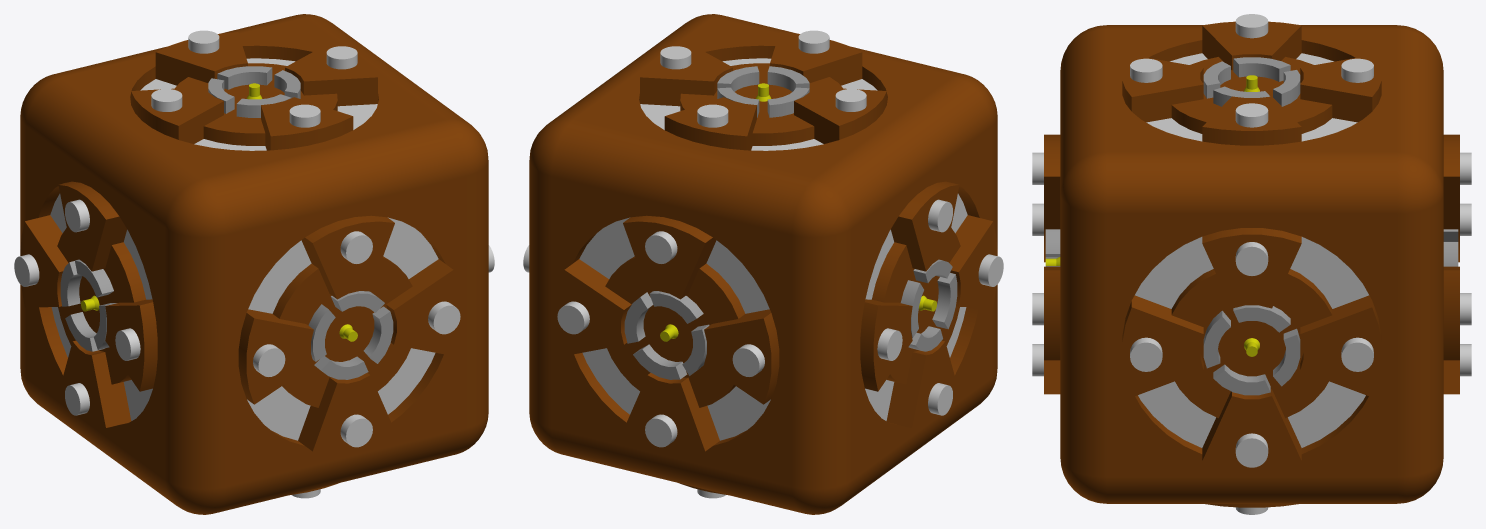
The model's file is maximum.dae.
3 views of the same model, side by side, from view 1: azimuth 30°, elevation 25°; view 2: azimuth 150°, elevation 25°; view 3: azimuth 270°, elevation 25° (orthographic). The views are drawn at different scales.
Parts seen in each view (by area): view 1: Actor0; view 2: Actor0; view 3: Actor0.
Part boxes in pixels (x1,y1,x2,y2): Actor0: (14,14,494,514); Actor0: (523,14,1003,514); Actor0: (1032,14,1471,514).
Size of the model in its own units: 0.048 by 0.048 by 0.048.
